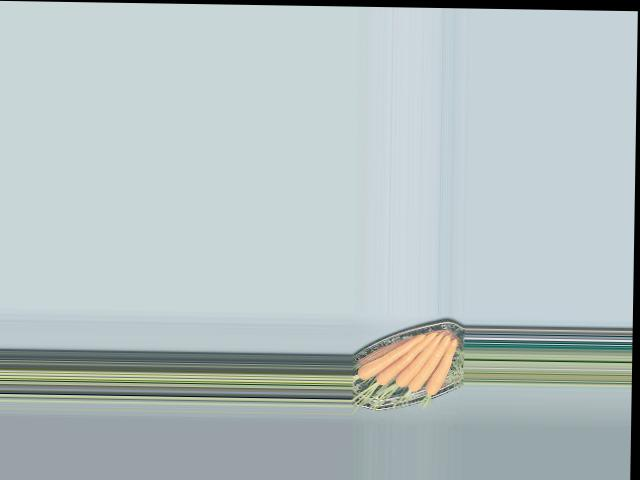carrot: (430, 337, 459, 395)
